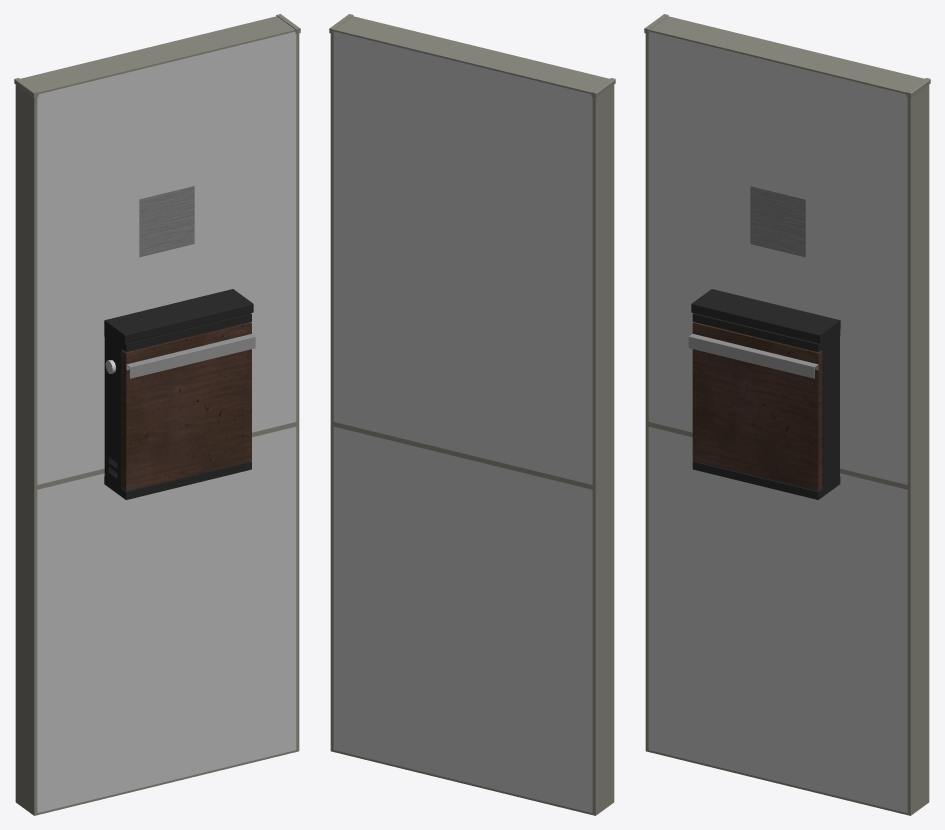
Rendered from abunitgatepost1h1800.fbx.
3 renders of one model, left to right at view 1: azimuth 30°, elevation 25°; view 2: azimuth 150°, elevation 25°; view 3: azimuth 330°, elevation 25°, orthographic.
Visible parts, largest first — view 1: abunitgatepost1h1800; view 2: abunitgatepost1h1800; view 3: abunitgatepost1h1800.
Boxes of the visible parts, <box> form: abunitgatepost1h1800: <box>14,14,300,815</box>; abunitgatepost1h1800: <box>329,14,615,815</box>; abunitgatepost1h1800: <box>644,14,930,815</box>.
Bounding box in the file's own units: 70.9 × 184 × 20.94.
